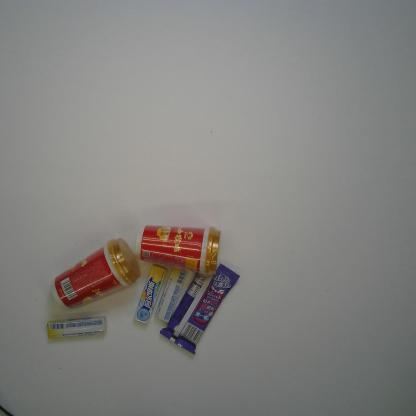Candy: (159, 259, 240, 356), (132, 263, 167, 325), (154, 265, 187, 324), (46, 316, 107, 340)
Instant Drink: (50, 237, 141, 312), (134, 223, 222, 278)
